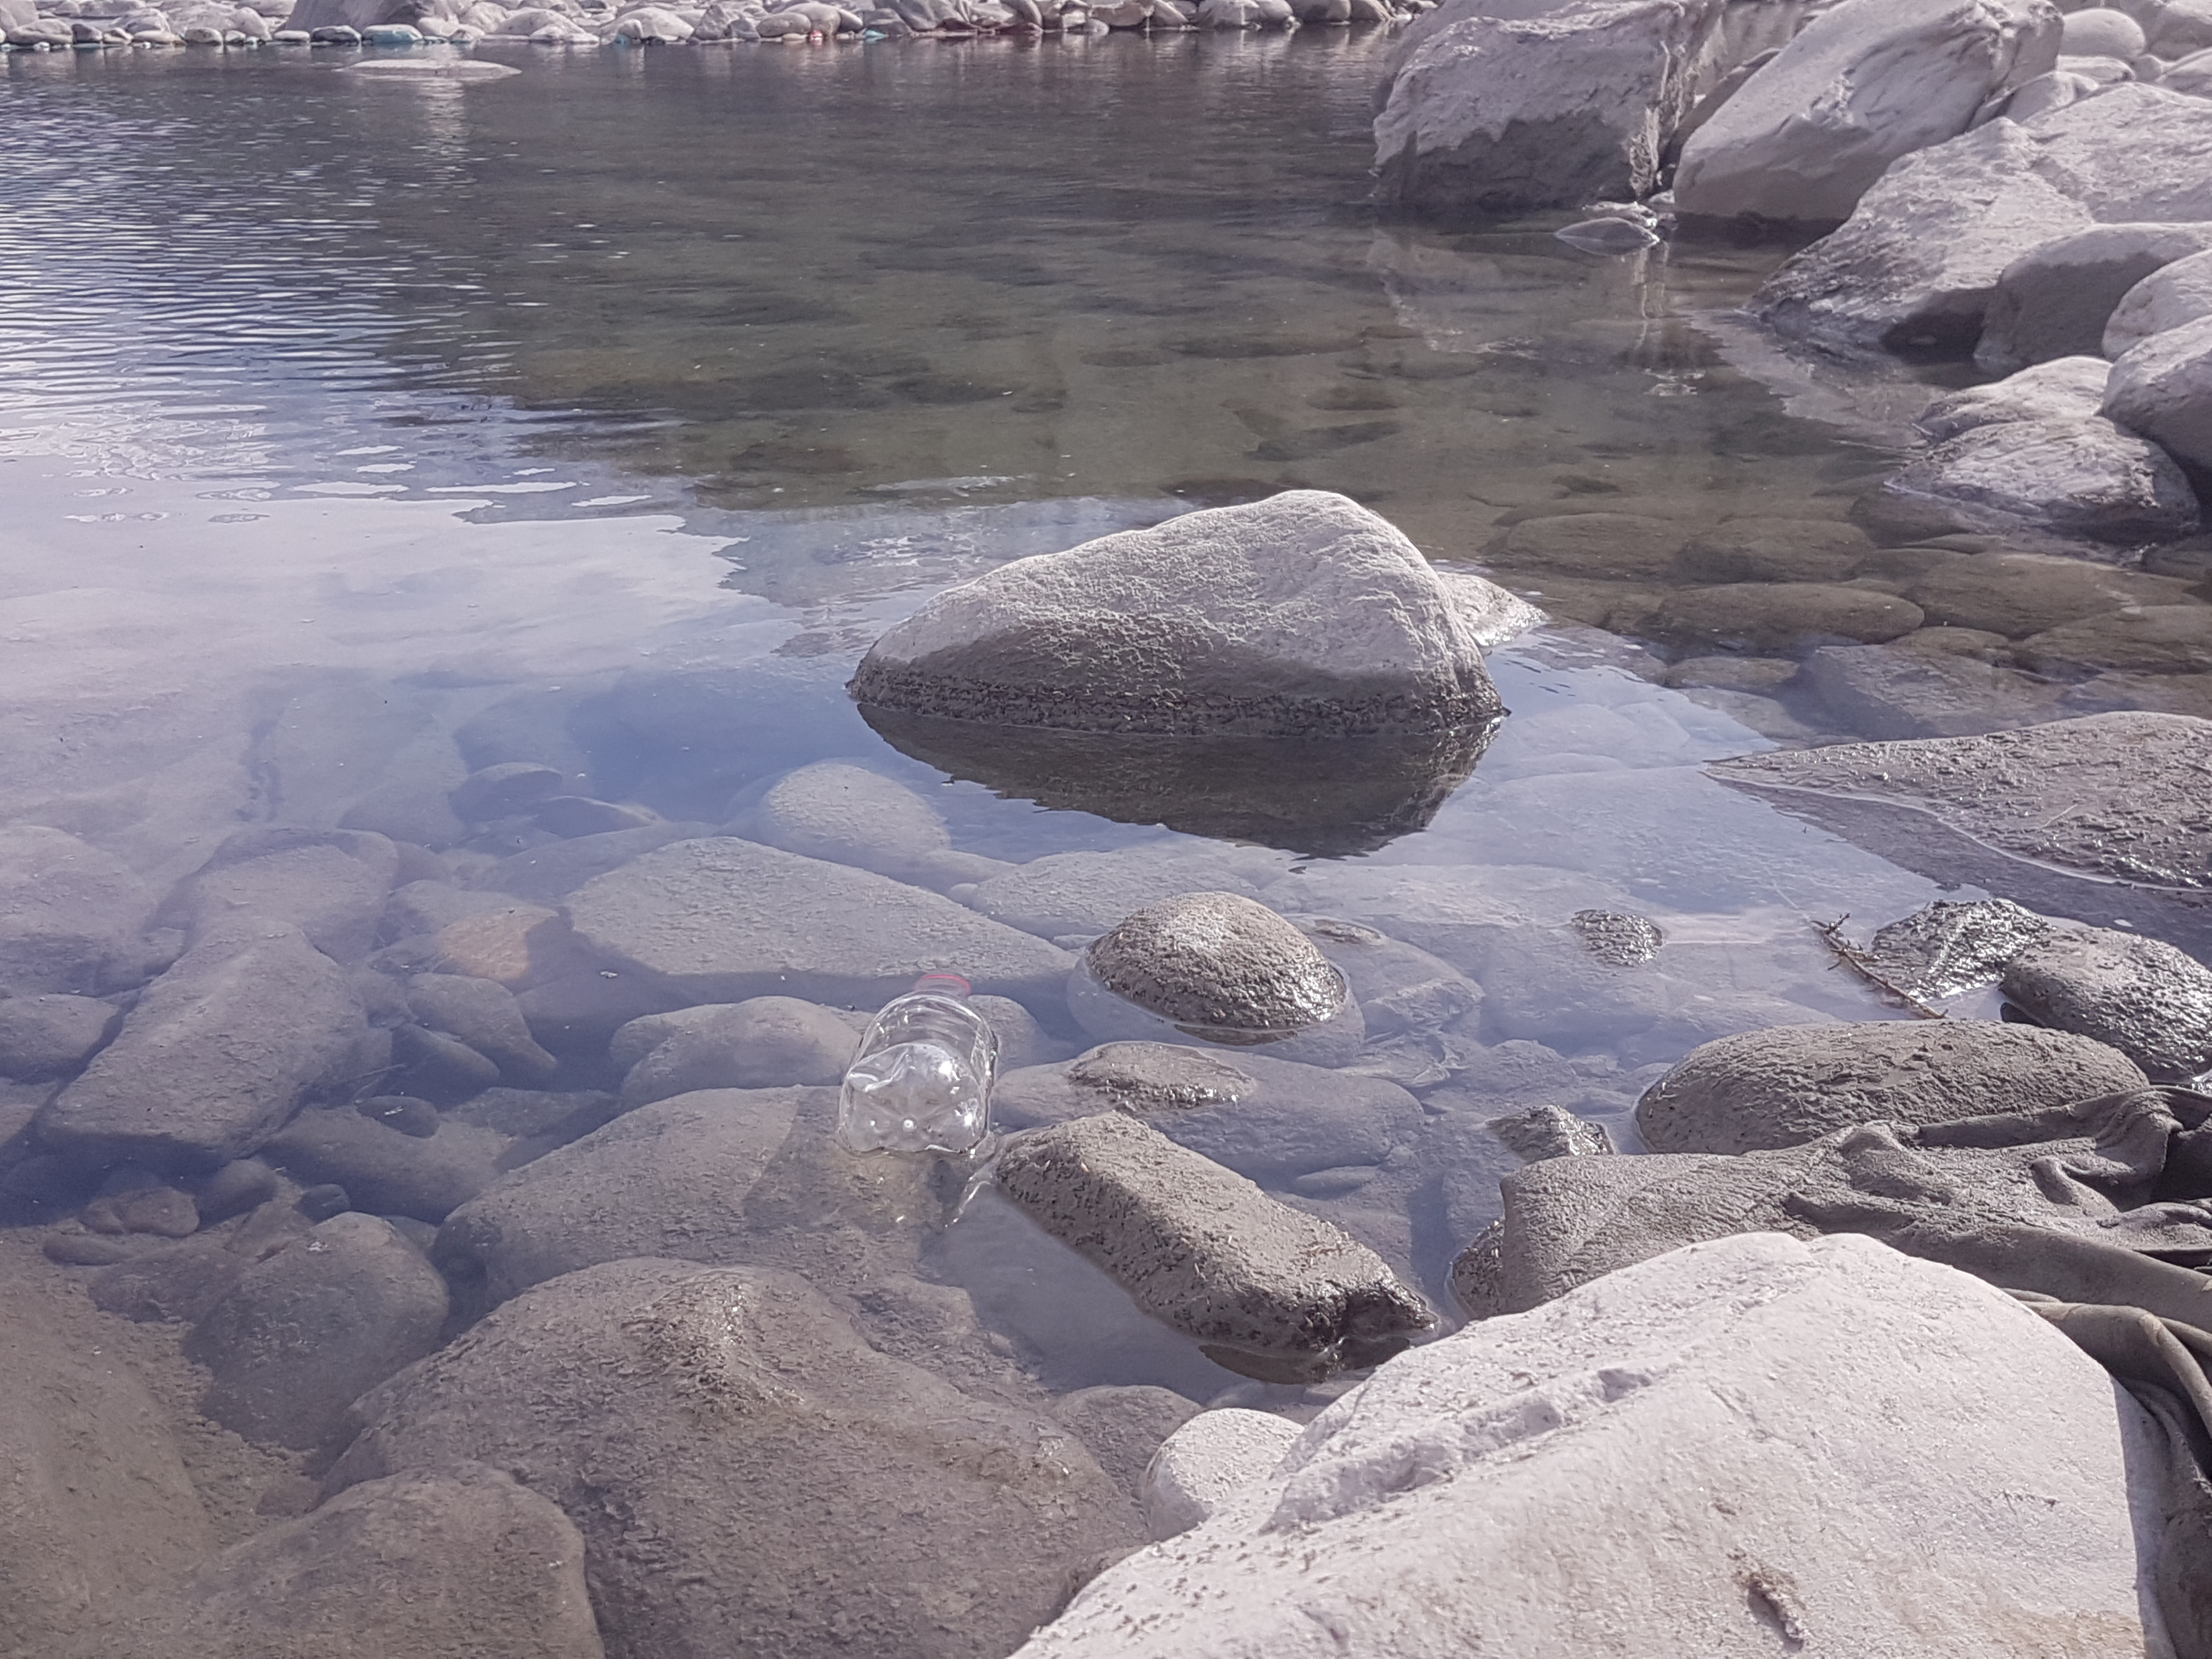Plastic Bottle: (838, 971, 998, 1154), (1580, 200, 1656, 228)
